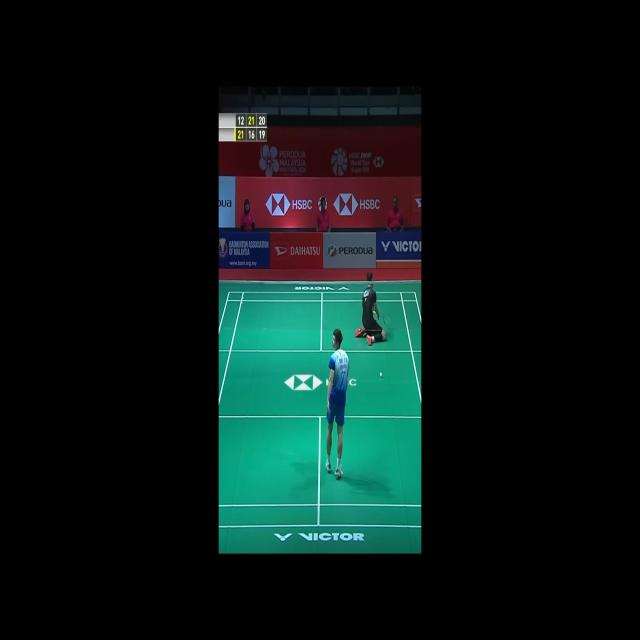shuttle-P15u: (380, 372, 384, 379)
